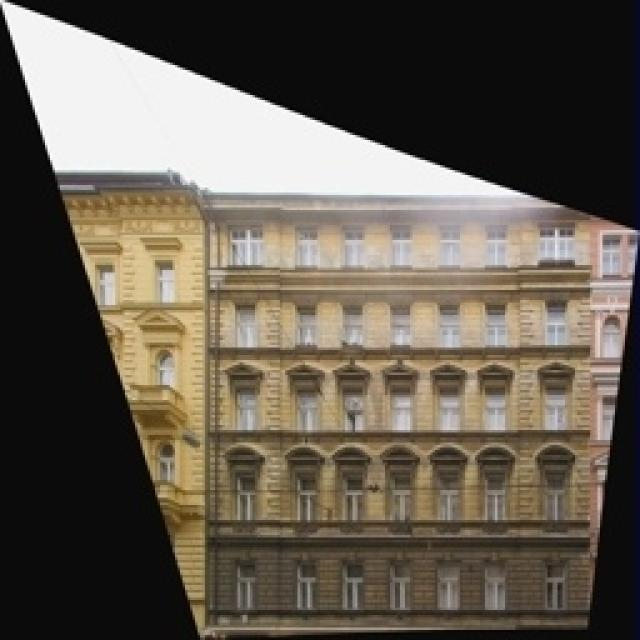building: (205, 182, 593, 640)
